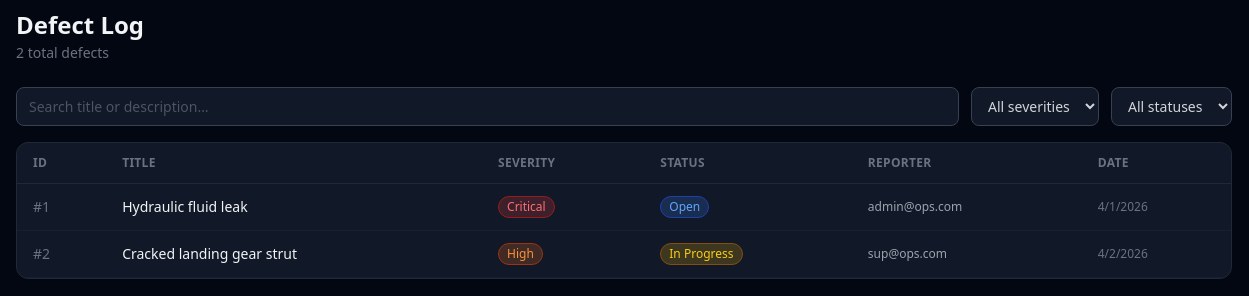
it: DefectLog — filtering › filters by severity and hides non-matching rows
expect the text "Hydraulic fluid leak" is shown: met, box 106,184 -> 482,230
Select "High" in the 1st dropdown showing "All severities" at (1035, 106), box 971,87 -> 1099,126
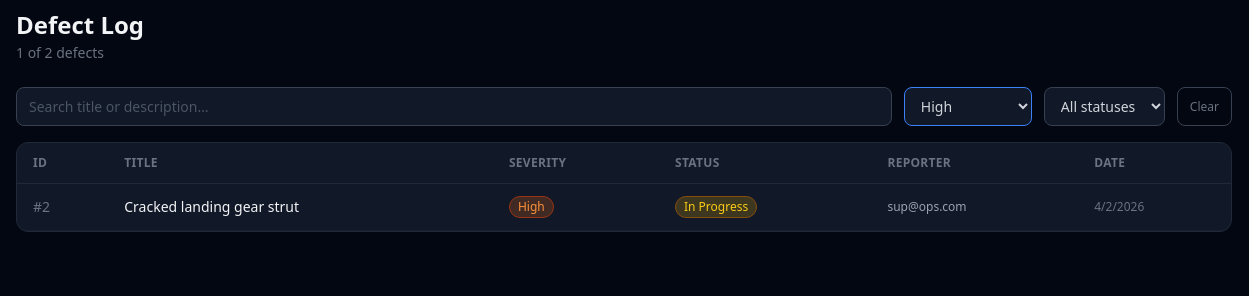
expect the text "Cracked landing gear strut" is shown: met, box 108,184 -> 493,230
expect the text "Hydraulic fluid leak" is gone: met
